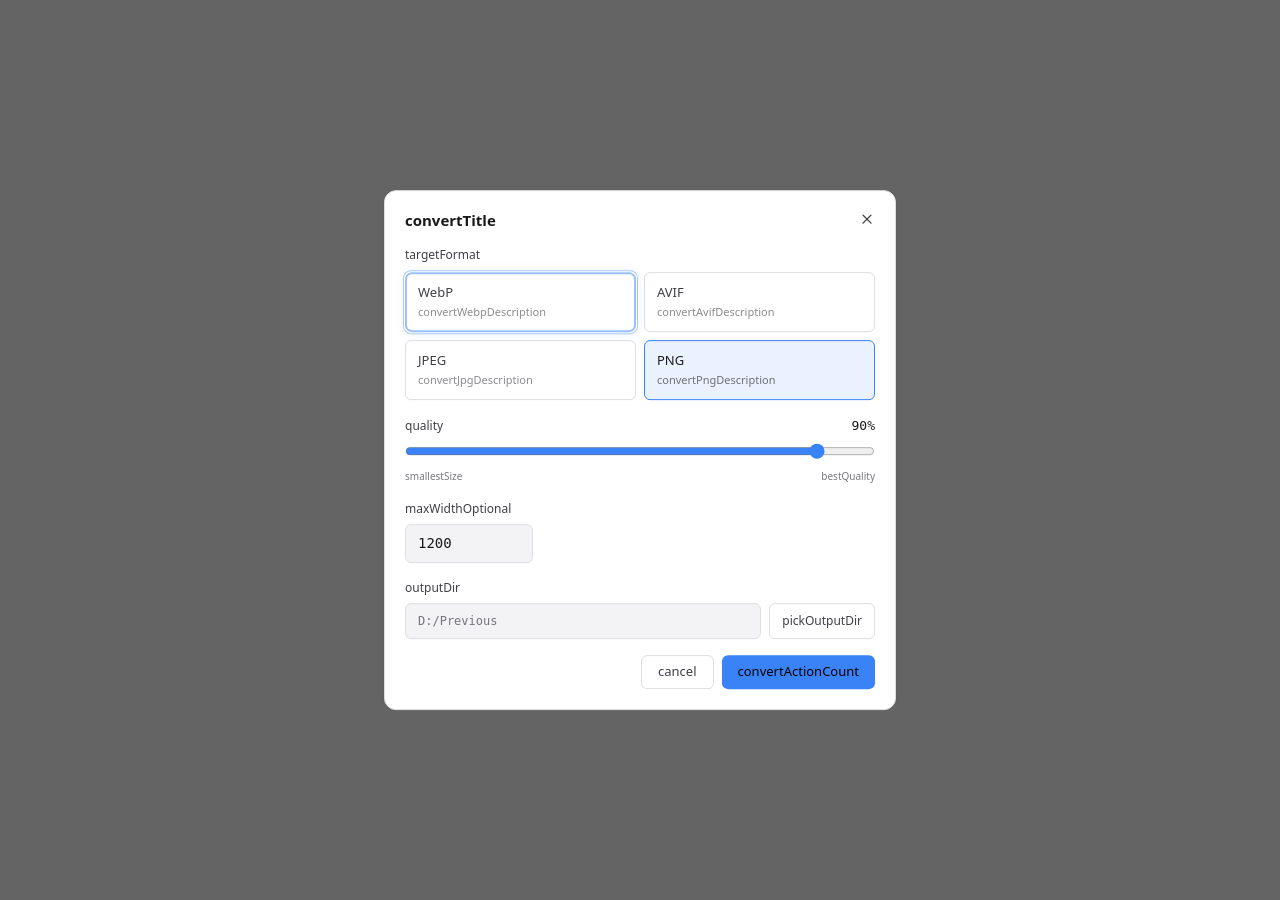
FormatConvertDialog preferences › keeps the last successful values when conversion resolves with zero results
Click the button "AVIF convertAvifDescription" at (760, 302), box [644,272,875,332]
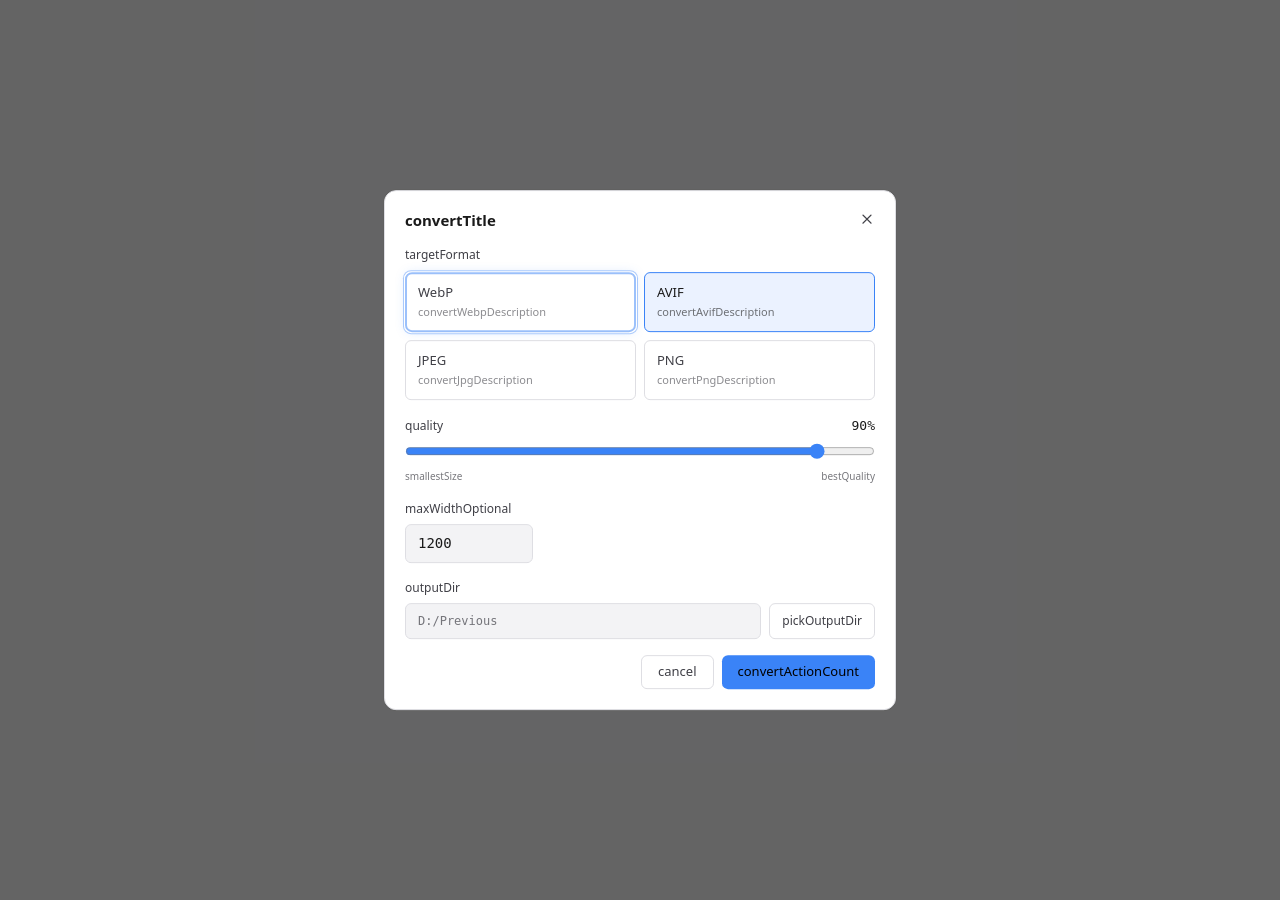
Click the button "convertActionCount" at (798, 672), box [722,655,875,689]
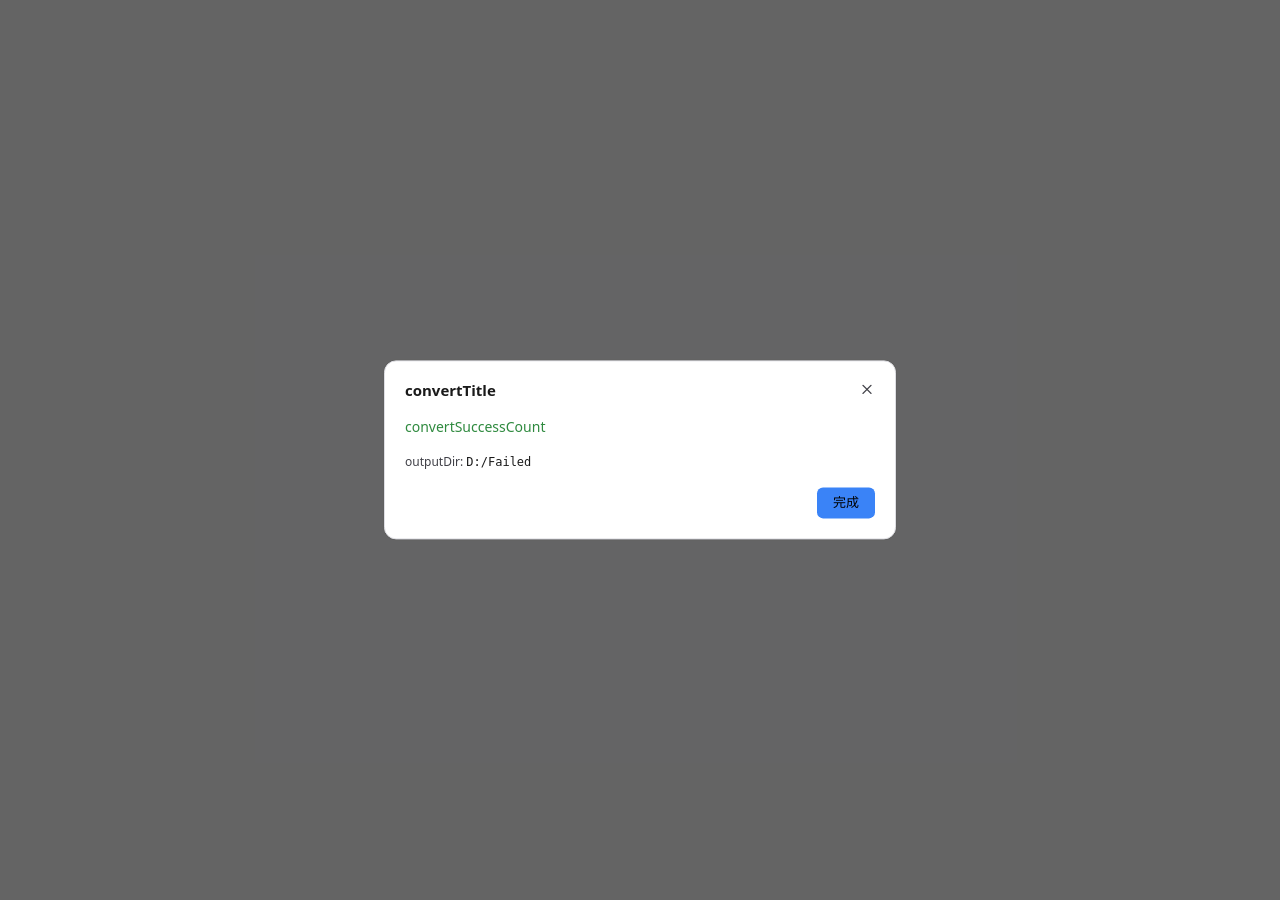
Expected: the text "convertSuccessCount" is shown, [405,417,546,436]
